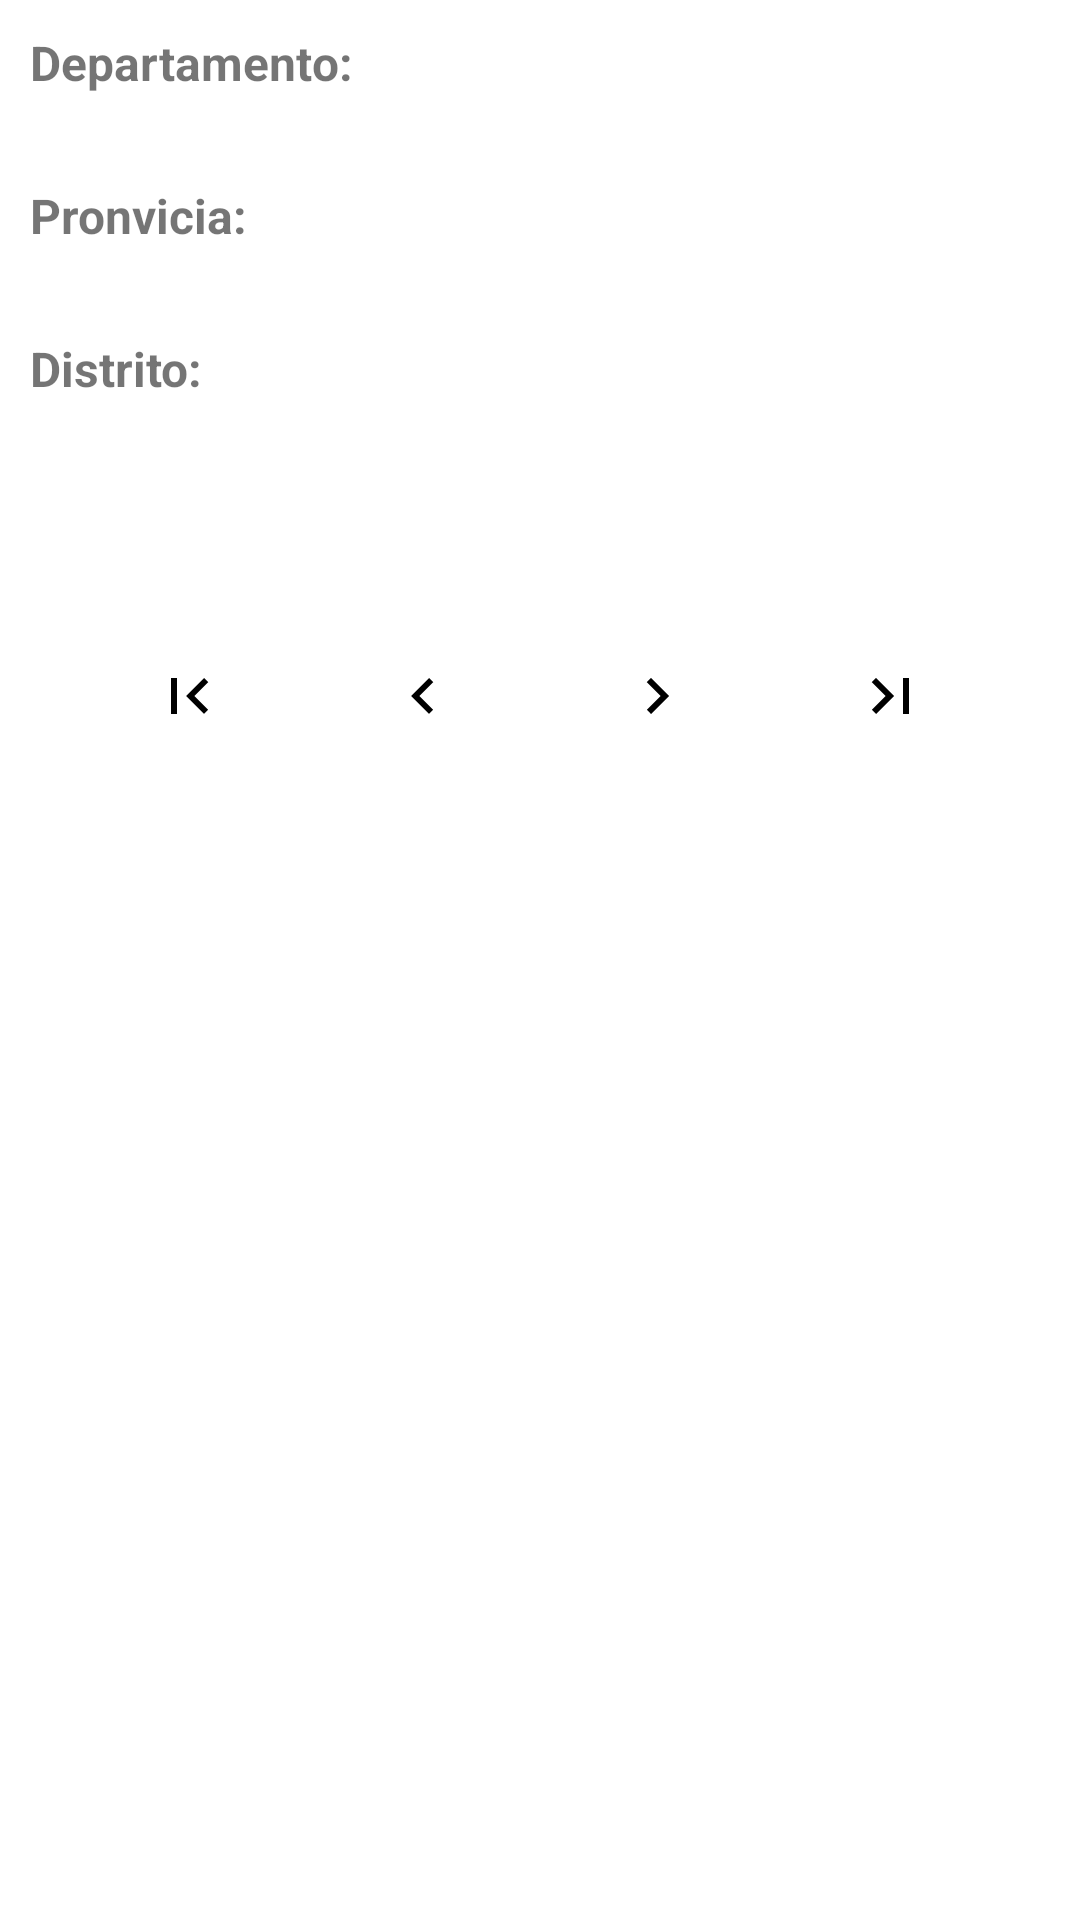

Where to tap for icons on this 1080 × 1920 app screen, as (x=x, y=y):
Adelante: (x=658, y=696)
Atrás: (x=422, y=696)
Final: (x=890, y=696)
Inicio: (x=189, y=696)
